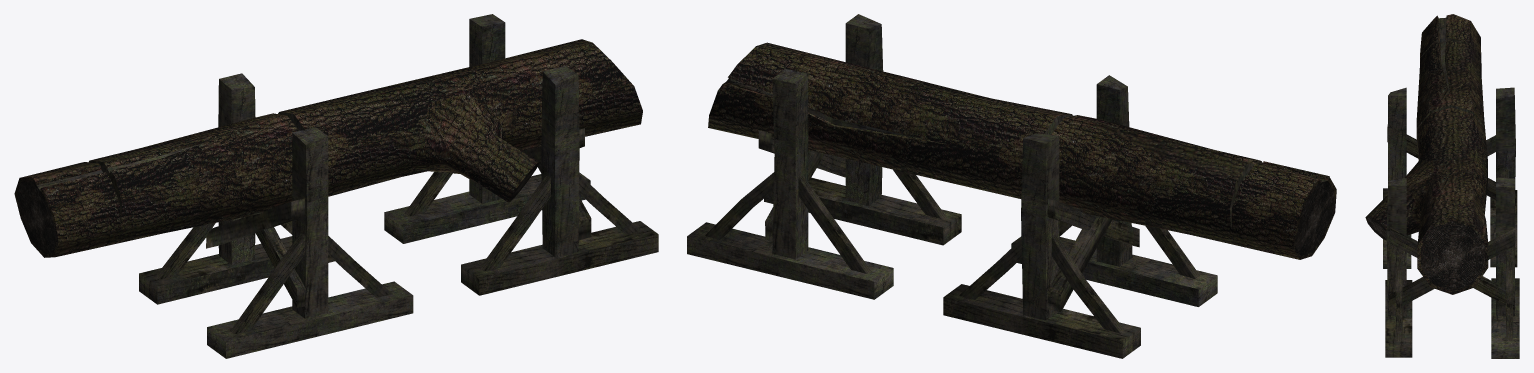
Rendered from G3_Object_Interact_Logstand_01.obj.
The picture shows the model from 3 angles, left to right: view 1: azimuth 30°, elevation 25°; view 2: azimuth 150°, elevation 25°; view 3: azimuth 270°, elevation 25°; orthographic projection. The views are drawn at different scales.
Parts seen in each view (by area): view 1: G3_Object_Interact_Logstand_01_1, G3_Object_Interact_Logstand_01_0, G3_Object_Interact_Logstand_01_2; view 2: G3_Object_Interact_Logstand_01_0, G3_Object_Interact_Logstand_01_1, G3_Object_Interact_Logstand_01_2; view 3: G3_Object_Interact_Logstand_01_1, G3_Object_Interact_Logstand_01_0, G3_Object_Interact_Logstand_01_2.
Part boxes in pixels (x1,y1,x2,y2): G3_Object_Interact_Logstand_01_1: [14, 39, 642, 257]; G3_Object_Interact_Logstand_01_0: [37, 14, 658, 358]; G3_Object_Interact_Logstand_01_2: [16, 164, 538, 253]; G3_Object_Interact_Logstand_01_0: [687, 14, 1327, 358]; G3_Object_Interact_Logstand_01_1: [708, 42, 1336, 259]; G3_Object_Interact_Logstand_01_2: [726, 78, 1334, 255]; G3_Object_Interact_Logstand_01_1: [1365, 14, 1488, 294]; G3_Object_Interact_Logstand_01_0: [1383, 17, 1519, 358]; G3_Object_Interact_Logstand_01_2: [1367, 217, 1484, 290].
Bounding box in the file's own units: 3.95 × 1.22 × 1.19.
